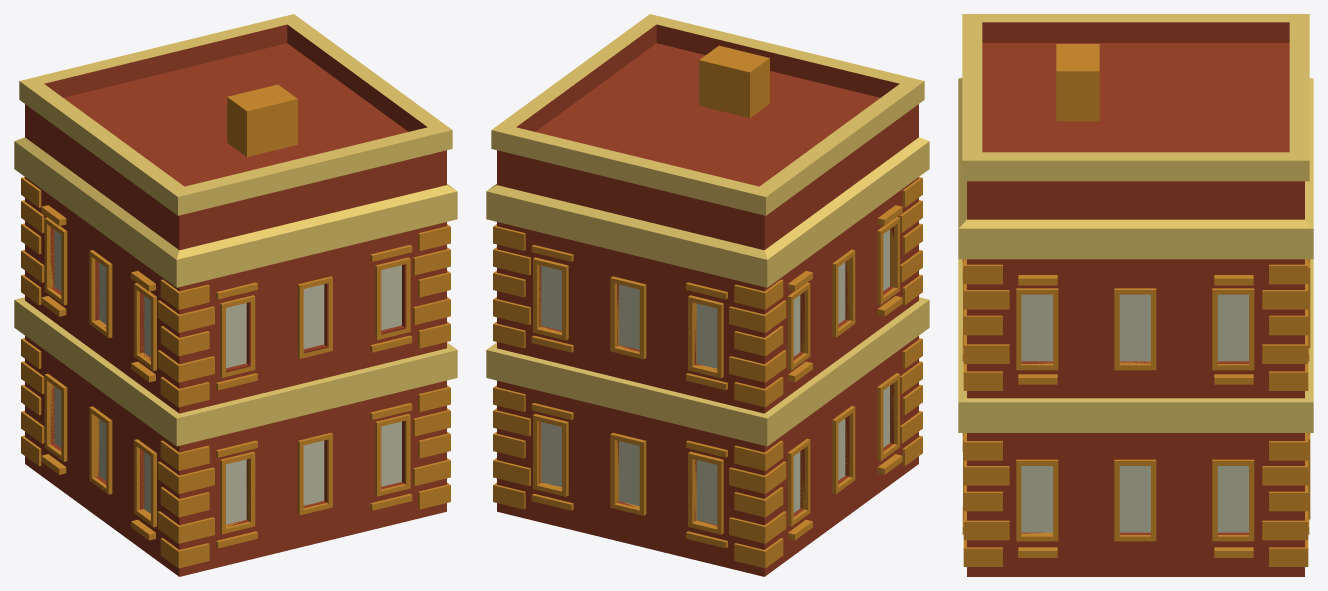
The model's file is building_1_additional.fbx.
3 views of the same model, side by side, from view 1: azimuth 30°, elevation 25°; view 2: azimuth 150°, elevation 25°; view 3: azimuth 270°, elevation 25° (orthographic). The views are drawn at different scales.
Visible parts, largest first — view 1: building_1_additional; view 2: building_1_additional; view 3: building_1_additional.
Boxes of the visible parts, <box> form: building_1_additional: <box>14,14,457,576</box>; building_1_additional: <box>486,14,929,576</box>; building_1_additional: <box>958,14,1313,576</box>.
Bounding box in the file's own units: 6.31 × 8.77 × 6.3.
